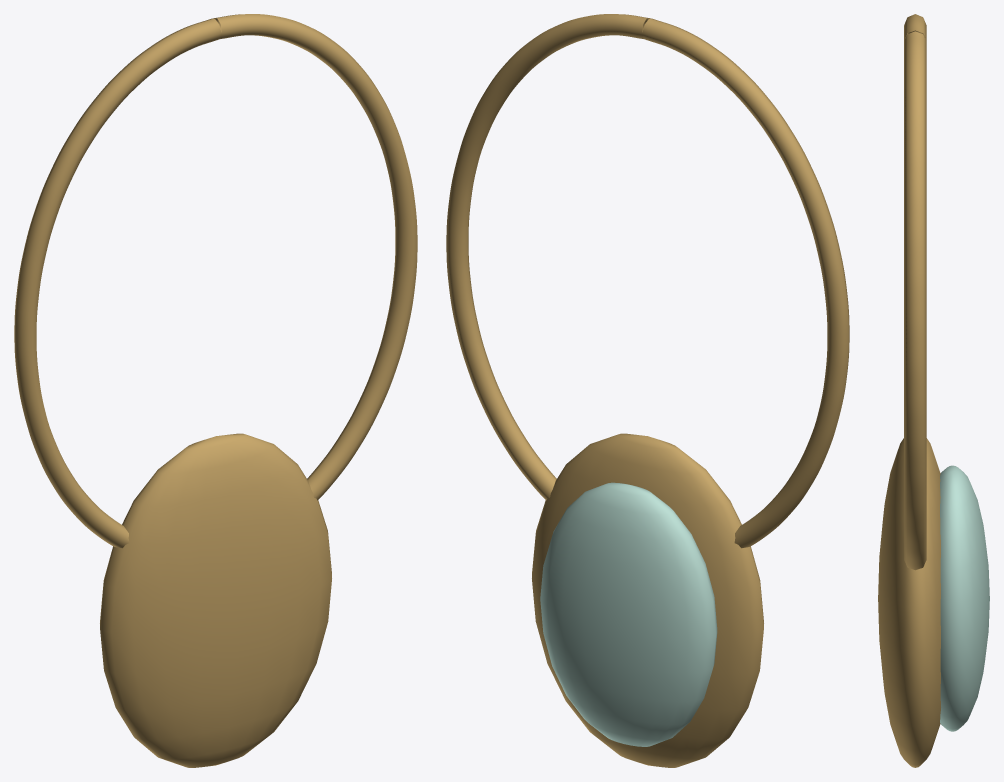
The model's file is moonleaf_charm.glb.
3 renders of one model, left to right at view 1: azimuth 30°, elevation 25°; view 2: azimuth 150°, elevation 25°; view 3: azimuth 270°, elevation 25°, orthographic. The views are drawn at different scales.
Parts seen in each view (by area): view 1: Engraved bezel, Pendant chain; view 2: Cut gemstone, Pendant chain, Engraved bezel; view 3: Engraved bezel, Pendant chain, Cut gemstone.
Boxes of the visible parts, x1=… form: Engraved bezel: x1=100, y1=433, x2=331, y2=767; Pendant chain: x1=14, y1=14, x2=417, y2=548; Cut gemstone: x1=540, y1=482, x2=717, y2=746; Pendant chain: x1=446, y1=14, x2=849, y2=548; Engraved bezel: x1=532, y1=433, x2=763, y2=767; Engraved bezel: x1=878, y1=438, x2=940, y2=767; Pendant chain: x1=904, y1=14, x2=926, y2=570; Cut gemstone: x1=940, y1=465, x2=989, y2=731.
Size of the model in its own units: 0.484 by 0.8619 by 0.12.
